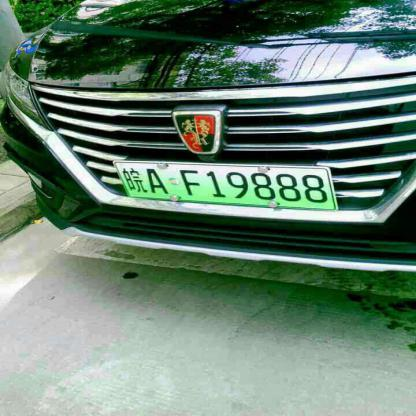lp: (115, 161, 337, 210)
